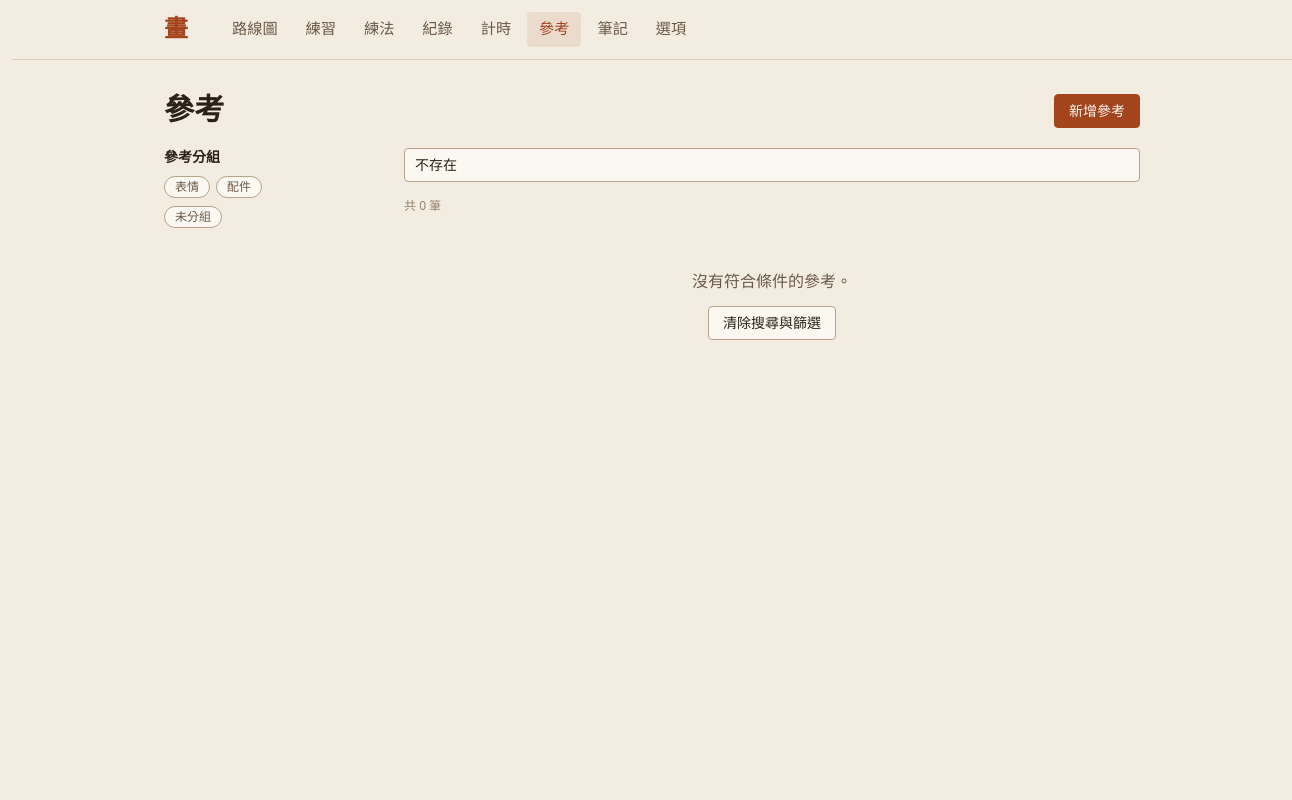
Test: the references library › offers clearing when only the filters leave it empty
Expected: the text "沒有符合條件的參考。" is shown, [692,273,852,290]
Click the button "清除搜尋與篩選" at x=772, y=323, box [708,306,836,340]
(page scrolled)
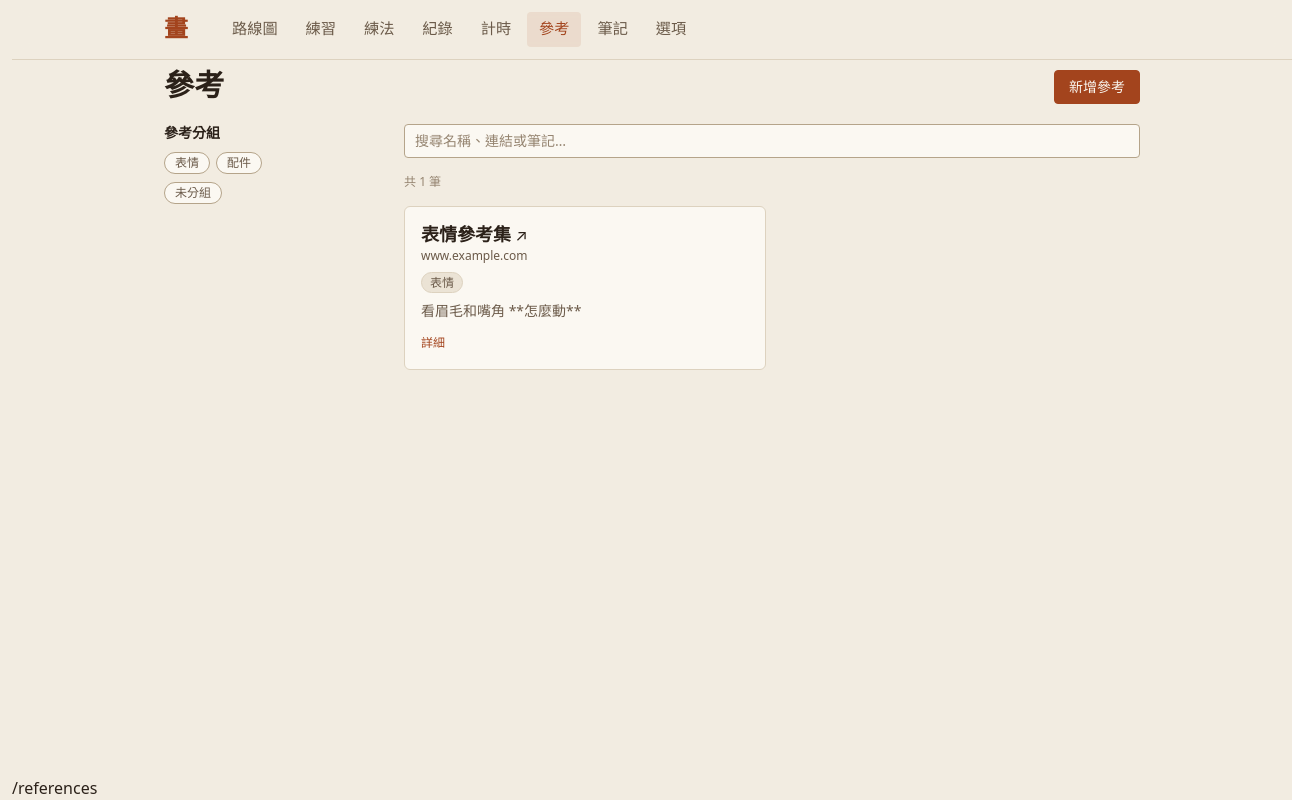
Expected: the text with test id "location" reads "/references", [12,777,97,799]
